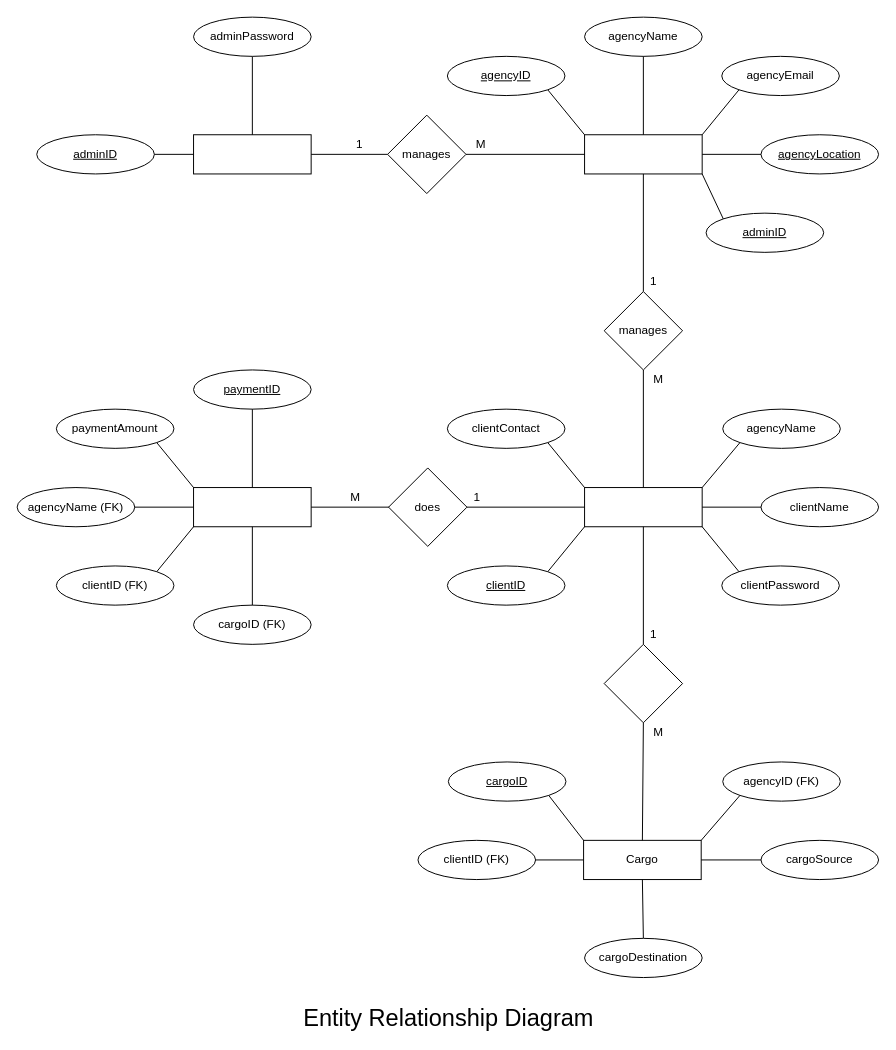
Some shapes in this 896 by 1050 pixel diagram are drawn without their labels. Here are the shapes that lost their labels. From the top down, the centre of each, then its label:
the point at 252,154: Admin
the point at 643,154: Agency
the point at 252,507: Payment
the point at 643,507: Client
the point at 643,683: has
